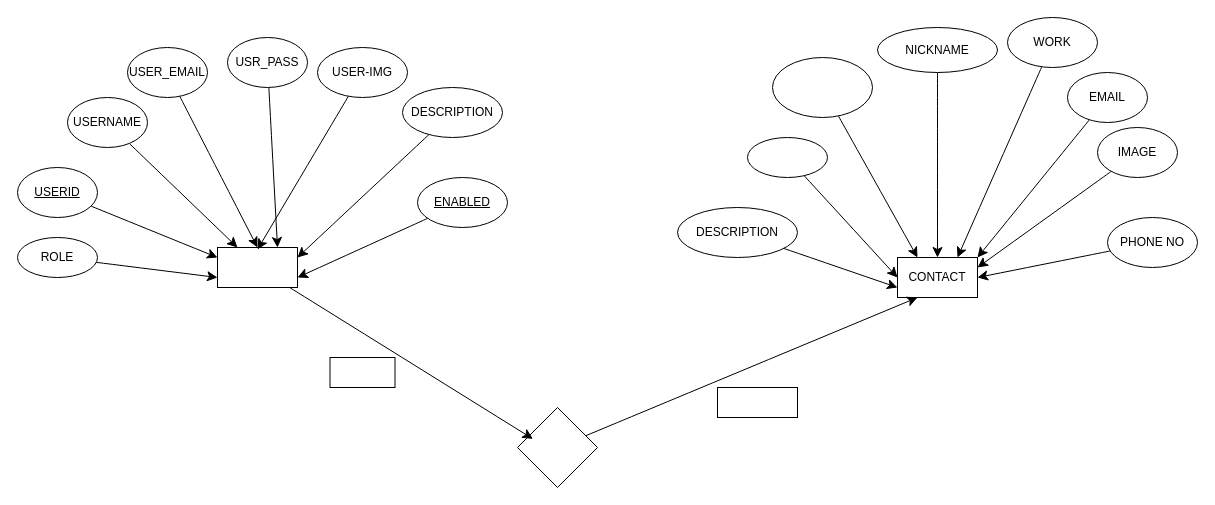
This 1215x505 diagram has some shape labels left out. Each missing label, with the centre of its shape:
1 USER: the point at 362,372
CID: the point at 787,157
HAS: the point at 557,447
MANY: the point at 757,402
NAME: the point at 822,87
USER: the point at 257,267
